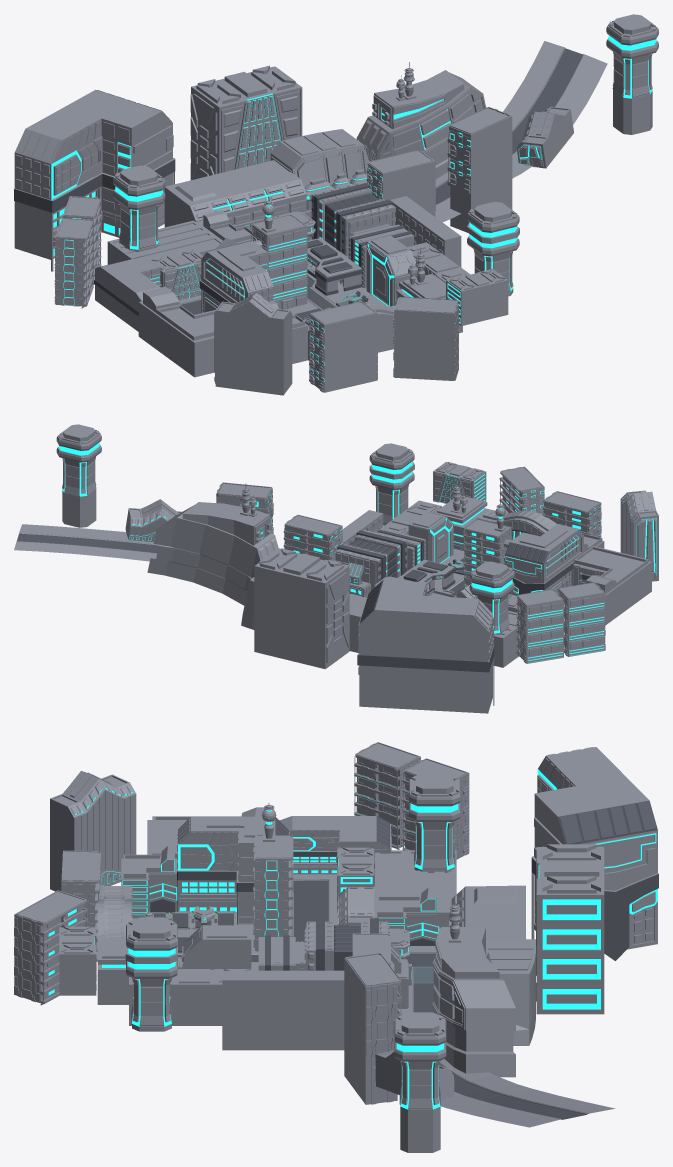
File: niko_stadt.glb
3 renders of one model, top to bottom at view 1: azimuth 30°, elevation 25°; view 2: azimuth 150°, elevation 25°; view 3: azimuth 270°, elevation 25°, orthographic. The views are drawn at different scales.
Visible parts, largest first — view 1: Cube.026, Cube.064, Cube.031, Cube, Cube.029, Cube.019, Cube.062, Cube.012, Cube.049, Cube.066, Cube.041, Cube.005 (+19 smaller); view 2: Cube.026, Cube.031, Cube.064, Cube.005, Cube, Cube.041, Cube.066, Cube.010, Cube.024, Cube.014, Cube.028, Cube.029 (+16 smaller); view 3: Cube.026, Cube.064, Cube.031, Cube, Cube.025, Cube.005, Cube.029, Cube.062, Cube.066, Cube.036, Cube.049, Cube.028 (+19 smaller).
Boxes of the visible parts, box(x1,y1,x2,y2) form: Cube.026: box(14, 89, 175, 271); Cube.064: box(270, 70, 485, 218); Cube.031: box(190, 65, 302, 180); Cube: box(179, 41, 607, 326); Cube.029: box(214, 293, 292, 395); Cube.019: box(164, 160, 307, 231); Cube.062: box(447, 107, 512, 232); Cube.012: box(309, 301, 377, 392); Cube.049: box(393, 297, 458, 380); Cube.066: box(606, 14, 658, 134); Cube.041: box(138, 286, 215, 377); Cube.005: box(199, 241, 273, 313); Cube.026: box(357, 580, 494, 713); Cube.031: box(254, 548, 349, 669); Cube.064: box(147, 502, 278, 629); Cube.005: box(504, 524, 583, 595); Cube: box(14, 524, 465, 591); Cube.041: box(571, 546, 651, 625); Cube.066: box(56, 424, 101, 527); Cube.010: box(516, 589, 563, 663); Cube.024: box(335, 530, 407, 597); Cube.014: box(558, 582, 605, 656); Cube.028: box(369, 443, 414, 525); Cube.029: box(620, 490, 658, 581); Cube.026: box(531, 747, 658, 960); Cube.064: box(432, 927, 535, 1077); Cube.031: box(536, 844, 604, 1014); Cube: box(132, 874, 614, 1127); Cube.025: box(222, 970, 344, 1050); Cube.005: box(177, 816, 289, 924); Cube.029: box(50, 770, 136, 891); Cube.062: box(344, 953, 401, 1104); Cube.066: box(394, 1012, 446, 1152); Cube.036: box(375, 850, 456, 945); Cube.049: box(14, 890, 87, 1005); Cube.028: box(125, 917, 177, 1031).
Size of the model in its own units: 310 by 74.82 by 236.
